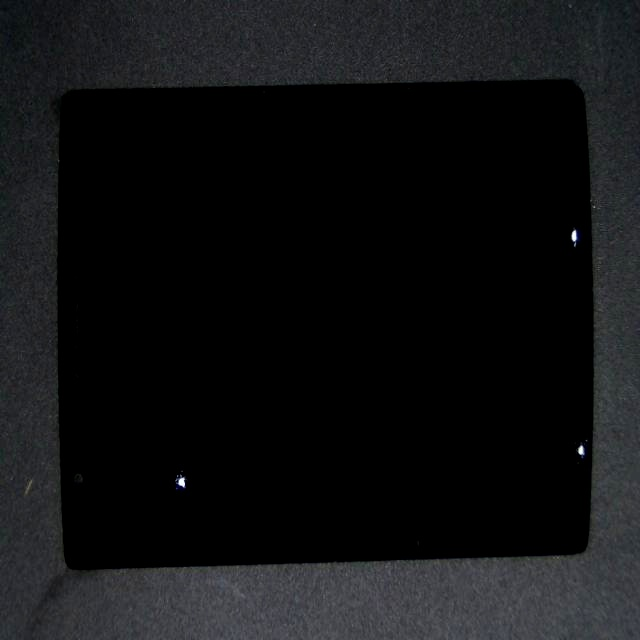stain: (298, 207, 640, 640), (286, 65, 640, 326), (104, 204, 271, 640)
